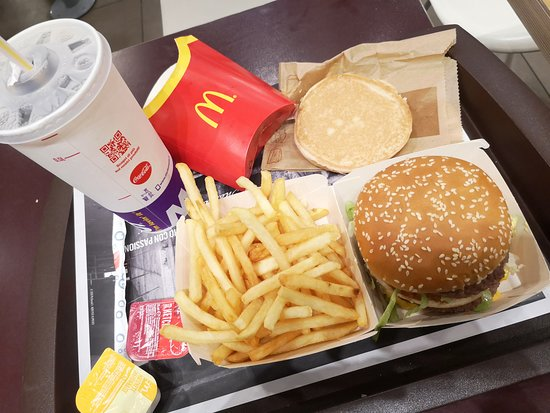mcdonalds: (191, 88, 240, 131)
